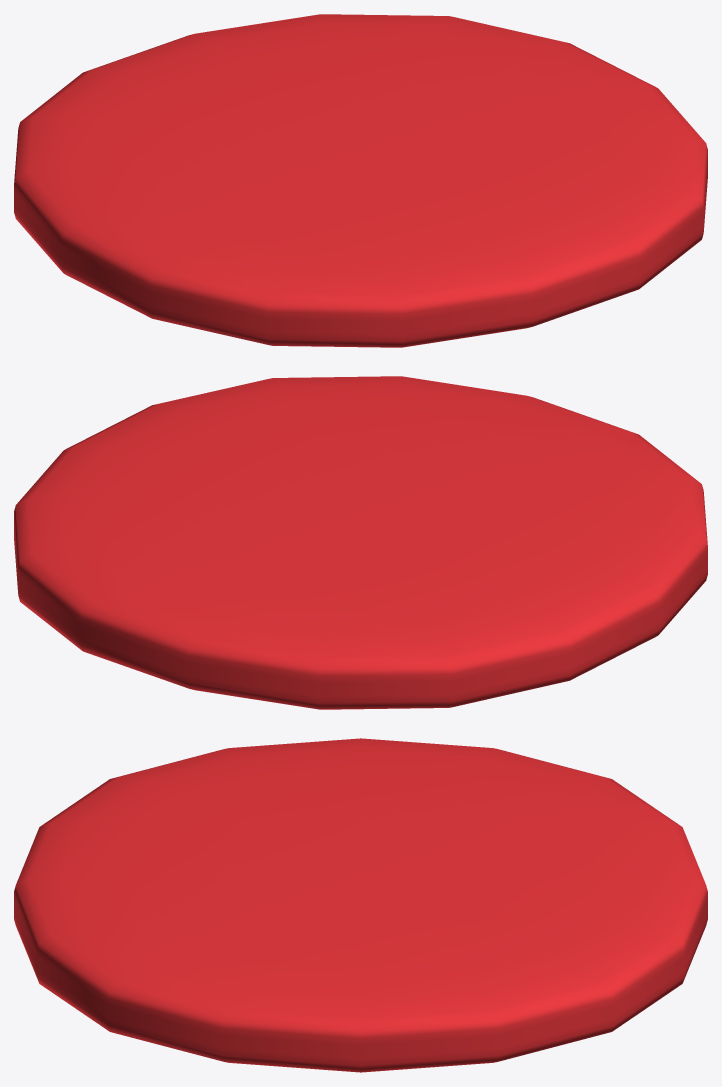
The model's file is Tomato.glb.
3 views of the same model, one above another, from view 1: azimuth 30°, elevation 25°; view 2: azimuth 150°, elevation 25°; view 3: azimuth 270°, elevation 25° (orthographic).
Parts seen in each view (by area): view 1: Tomate; view 2: Tomate; view 3: Tomate.
Boxes of the visible parts, box(x1,y1,x2,y2) form: Tomate: box(14, 14, 707, 347); Tomate: box(14, 376, 707, 709); Tomate: box(14, 738, 707, 1072).
Size of the model in its own units: 1.65 by 0.2033 by 1.65.
